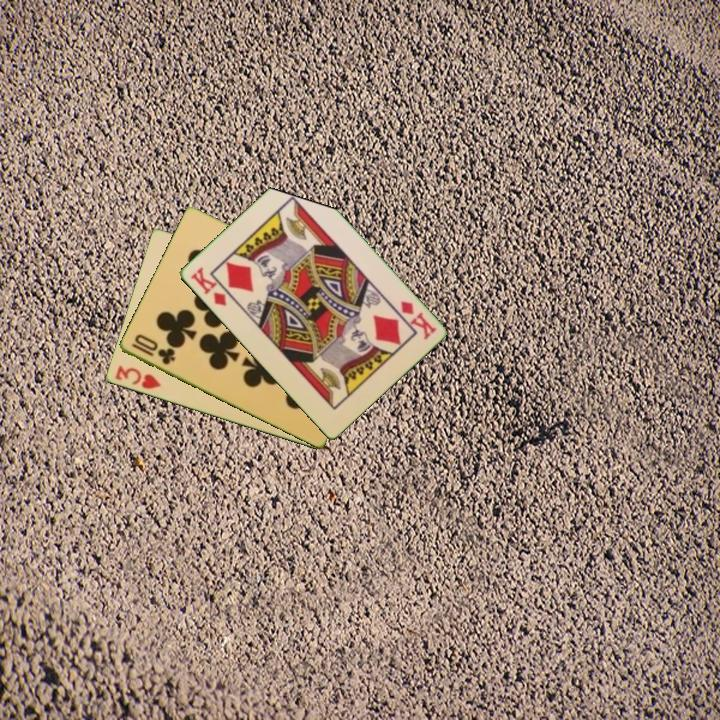10c: (128, 331, 178, 368)
3h: (111, 362, 164, 392)
Kd: (186, 263, 229, 309), (396, 297, 439, 343)
